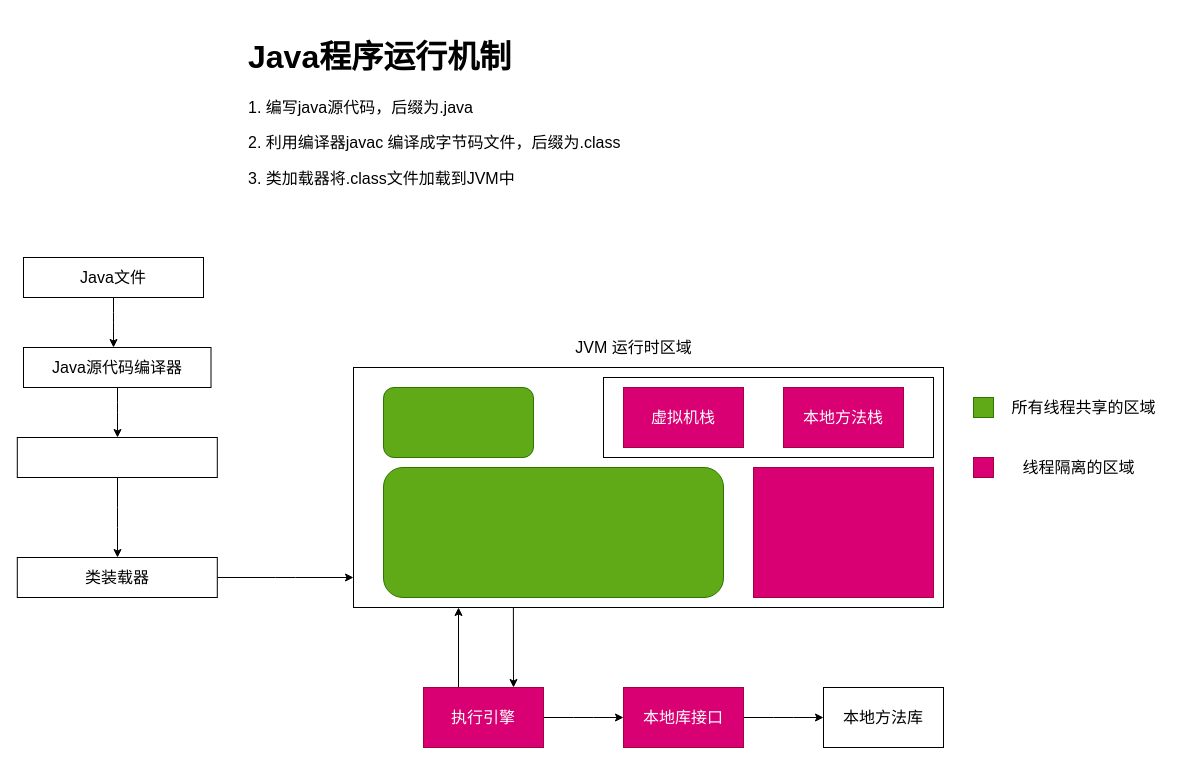
Image size: 1181x765. Some labels were removed from this diagram. Here are the shapes that lost their labels. From the top down, the box of each, then its label:
(382, 386, 534, 458): 方法区
(16, 436, 217, 478): .class文件
(382, 466, 724, 598): 堆内存
(752, 466, 934, 598): 程序计数器
